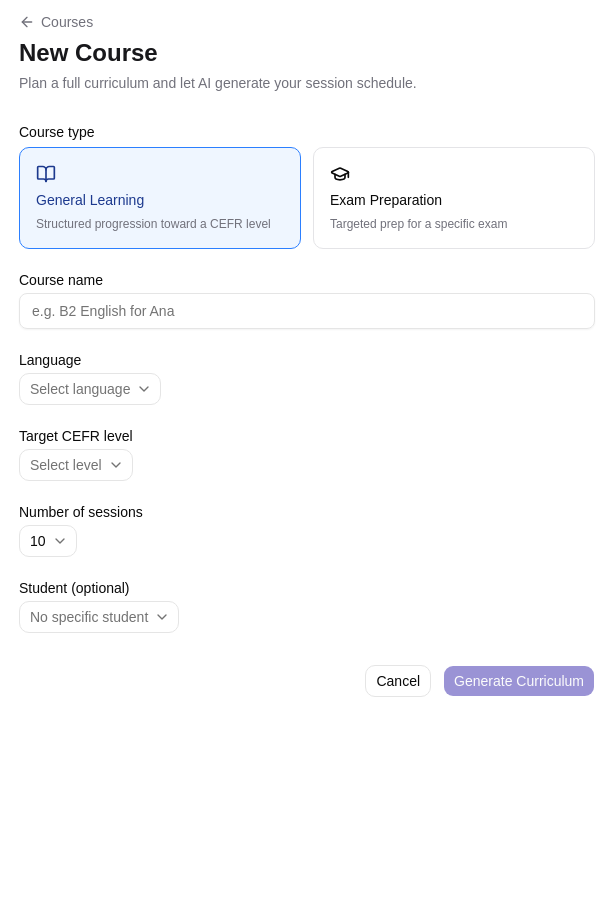
Test: CourseNew wizard › student profile summary › shows profile summary card when a student is selected
The image size is (613, 911).
Click the dropdown with test id "student-select".
click(99, 617)  # box [19, 601, 179, 633]
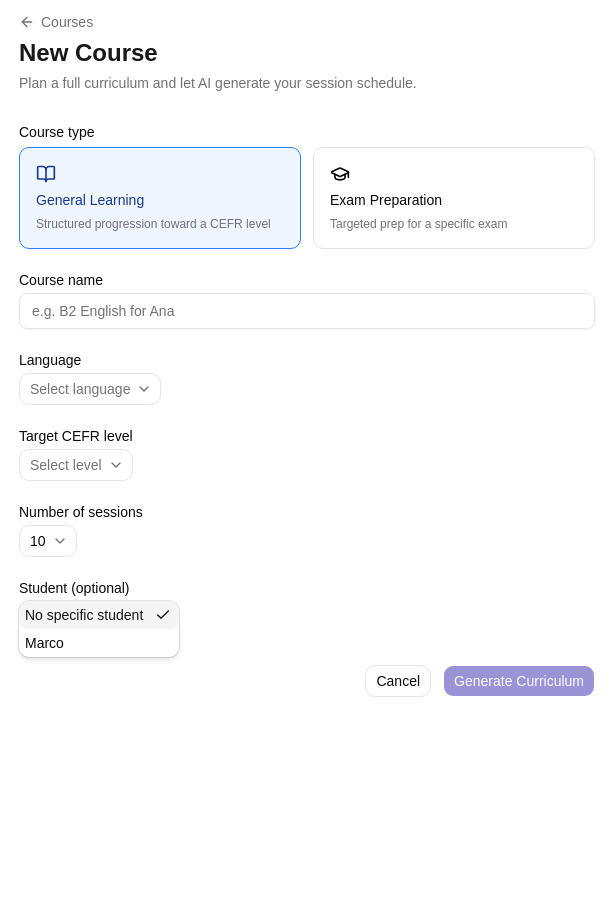
Click the option "Marco".
click(44, 643)  # box [25, 635, 64, 651]
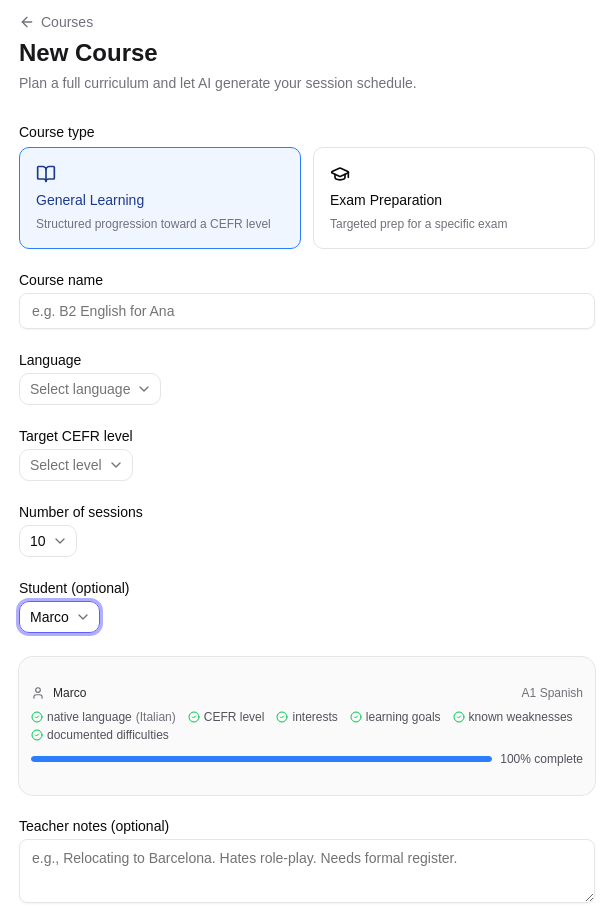
Now the element with test id "student-profile-summary" is shown, box [19, 657, 595, 795]
